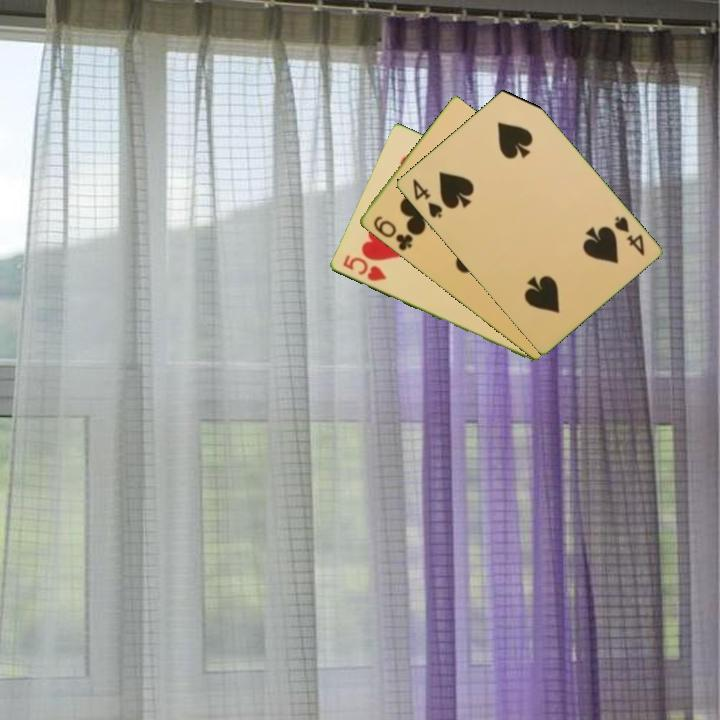4s: (610, 212, 647, 259), (408, 175, 445, 221)
5h: (339, 251, 389, 284)
6c: (369, 212, 415, 254)
